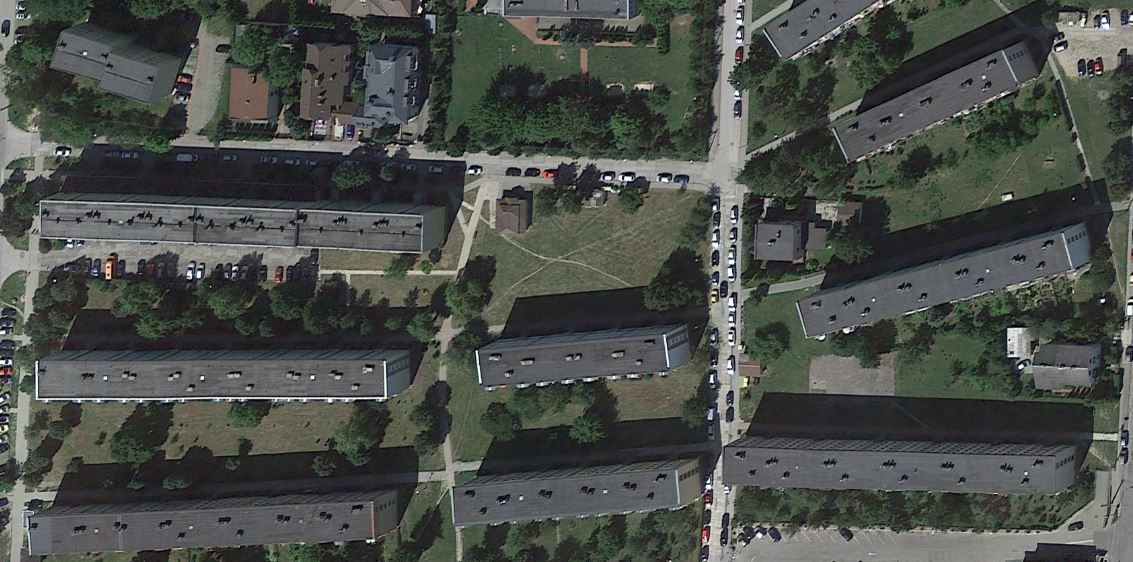block of flats: (791, 215, 1105, 343), (32, 185, 457, 259), (826, 39, 1046, 173), (21, 482, 408, 558), (30, 341, 428, 406), (721, 435, 1083, 497), (443, 453, 712, 535), (470, 313, 694, 398), (42, 20, 186, 114), (758, 1, 893, 64), (743, 215, 808, 266)
family house: (363, 34, 426, 136), (292, 37, 363, 125), (217, 59, 285, 126)
